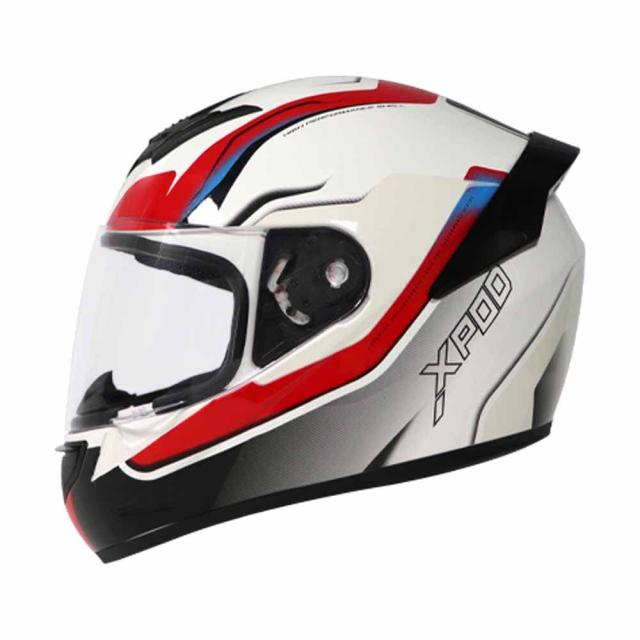helmet: (50, 57, 598, 570)
